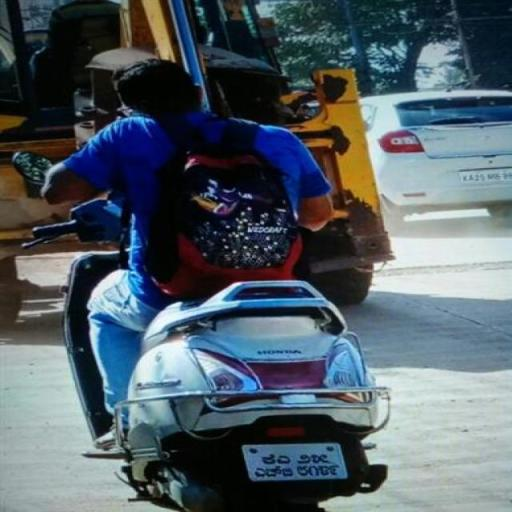using mobile: (115, 102, 157, 122)
